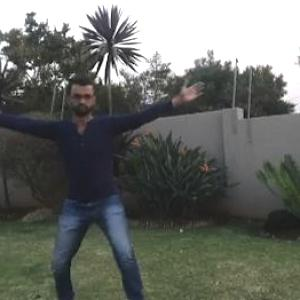takeoff: (1, 66, 188, 299)
